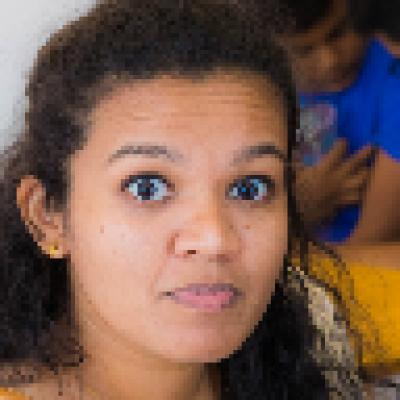surprise: (68, 64, 292, 361)
